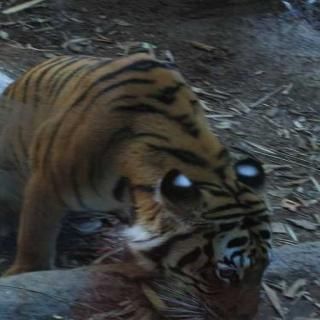Tiger: (0, 39, 279, 320)
